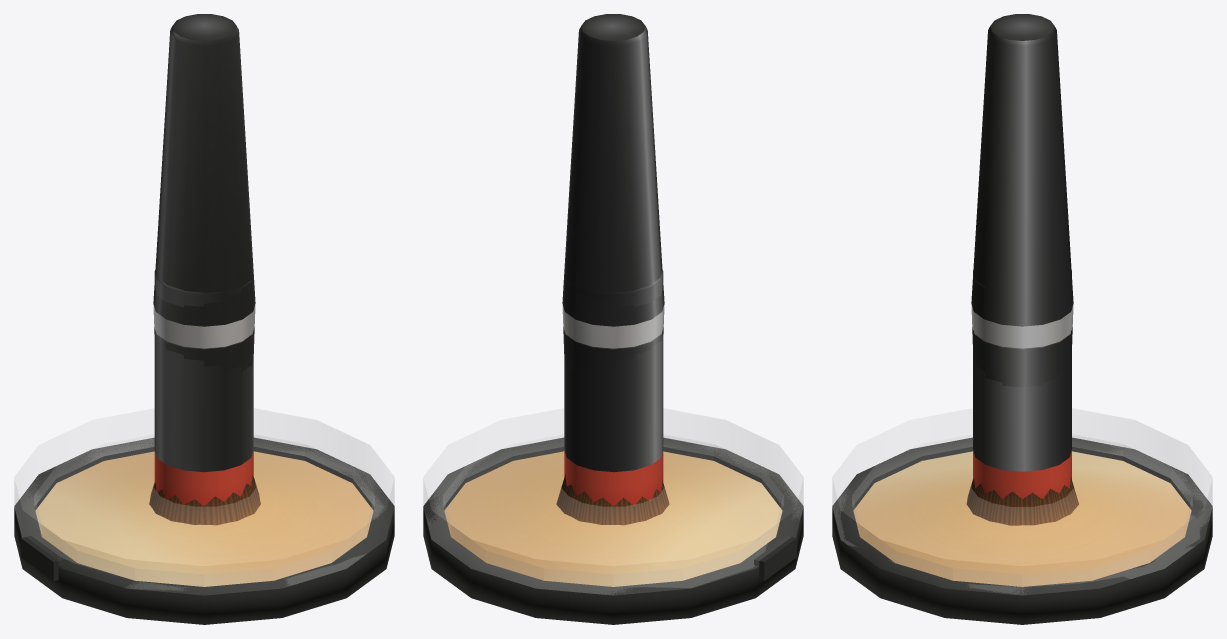
File: MakeUpSet1_01.fbx
3 views of the same model, side by side, from view 1: azimuth 30°, elevation 25°; view 2: azimuth 150°, elevation 25°; view 3: azimuth 270°, elevation 25° (orthographic).
Visible parts, largest first — view 1: BlusherBottom, Top, EyeLinerTop, LipStickTop, EyeLinerBottom, LipStickBottom, Brush1; view 2: BlusherBottom, Top, EyeLinerTop, LipStickTop, EyeLinerBottom, LipStickBottom, Brush1; view 3: BlusherBottom, Top, EyeLinerTop, LipStickTop, EyeLinerBottom, Brush1, LipStickBottom.
Part boxes in pixels (bbox=[...]): BlusherBottom: bbox=[14, 437, 394, 624]; Top: bbox=[14, 408, 394, 594]; EyeLinerTop: bbox=[153, 14, 255, 326]; LipStickTop: bbox=[154, 270, 253, 472]; EyeLinerBottom: bbox=[153, 303, 255, 372]; LipStickBottom: bbox=[154, 449, 253, 506]; Brush1: bbox=[149, 476, 260, 525]; BlusherBottom: bbox=[423, 437, 803, 624]; Top: bbox=[423, 408, 803, 594]; EyeLinerTop: bbox=[562, 14, 664, 326]; LipStickTop: bbox=[564, 270, 663, 472]; EyeLinerBottom: bbox=[562, 303, 664, 372]; LipStickBottom: bbox=[564, 449, 663, 505]; Brush1: bbox=[556, 475, 669, 525]; BlusherBottom: bbox=[832, 437, 1212, 624]; Top: bbox=[832, 408, 1212, 595]; EyeLinerTop: bbox=[971, 14, 1073, 326]; LipStickTop: bbox=[973, 271, 1071, 471]; EyeLinerBottom: bbox=[971, 303, 1073, 387]; Brush1: bbox=[966, 477, 1078, 525]; LipStickBottom: bbox=[973, 449, 1071, 499].
Bounding box in the file's own units: 23.15 × 34.47 × 22.92.
